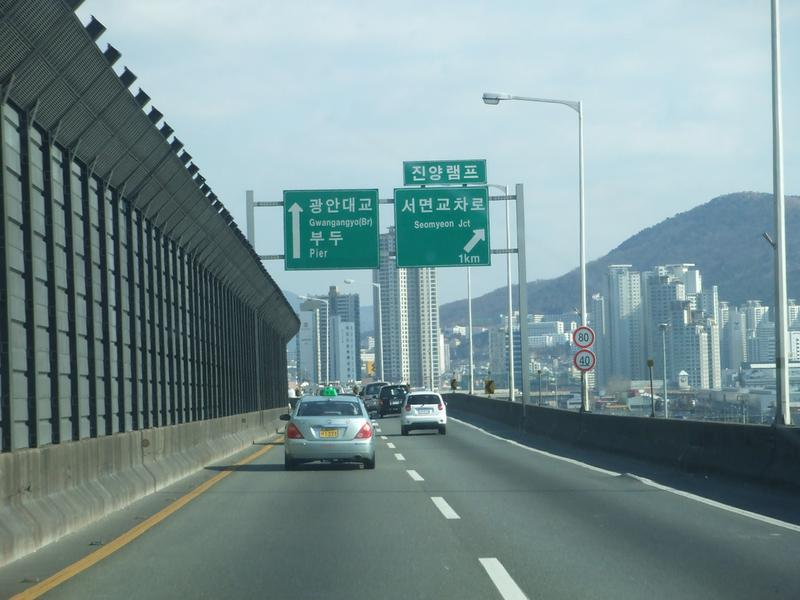car: (282, 393, 378, 465), (401, 392, 448, 432)
lane: (69, 473, 230, 581), (427, 493, 460, 521), (403, 468, 425, 482)
